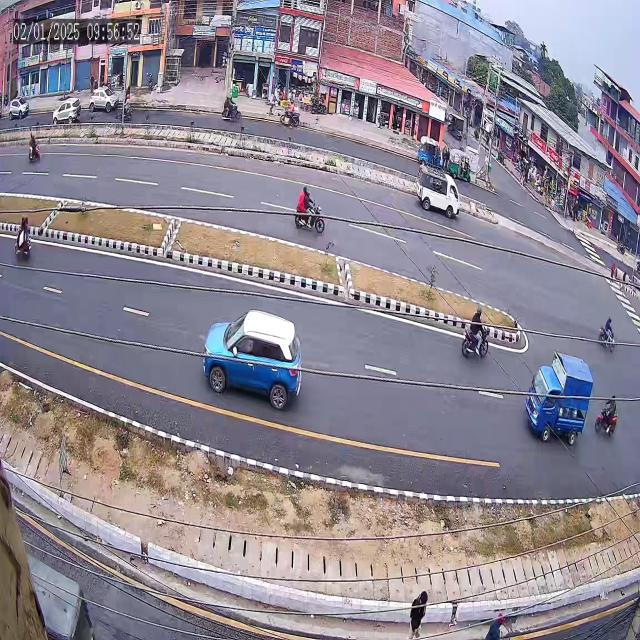car: (196, 283, 308, 428)
motorcycle: (455, 292, 492, 376), (290, 172, 332, 240), (593, 386, 629, 452), (19, 128, 50, 172), (598, 308, 624, 360)
van: (412, 162, 466, 228)
